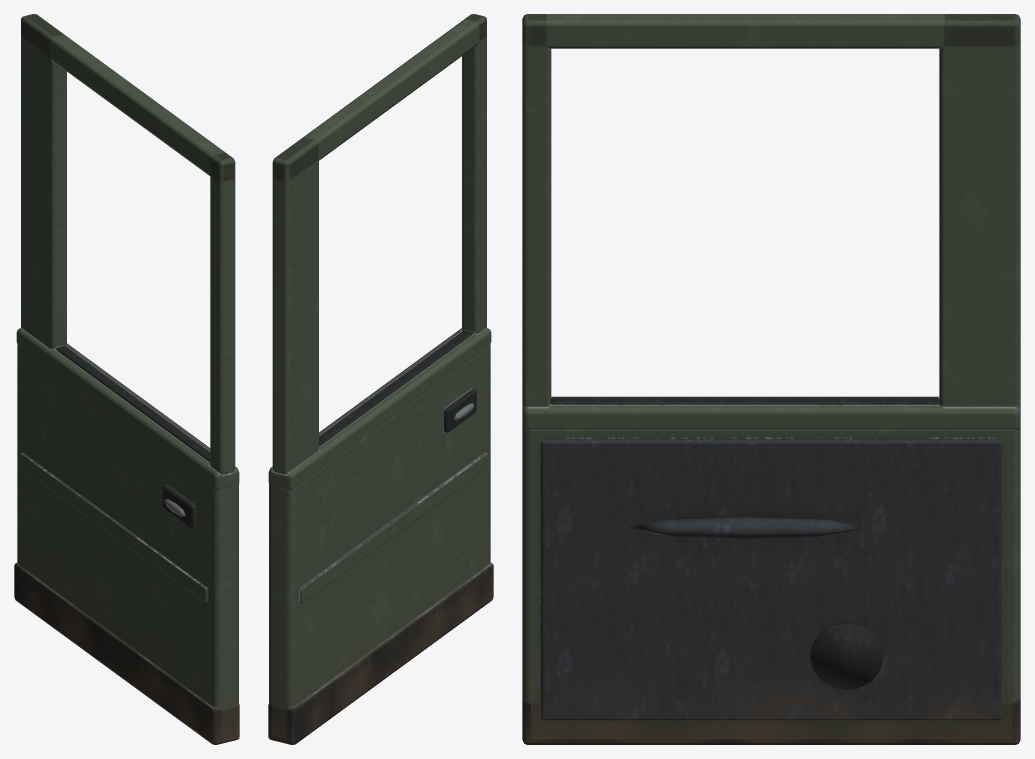
Rendered from mule_door_fl.glb.
3 views of the same model, side by side, from view 1: azimuth 30°, elevation 25°; view 2: azimuth 150°, elevation 25°; view 3: azimuth 270°, elevation 25° (orthographic). The views are drawn at different scales.
Parts seen in each view (by area): view 1: mule_door_fl; view 2: mule_door_fl; view 3: mule_door_fl.
Boxes of the visible parts, x1,y1,x2,y2 form: mule_door_fl: (14,14,239,744); mule_door_fl: (268,14,493,744); mule_door_fl: (522,14,1020,744).
Bounding box in the file's own units: 0.1596 × 1.52 × 0.95.
Materials: 1 (1 with a texture image).
